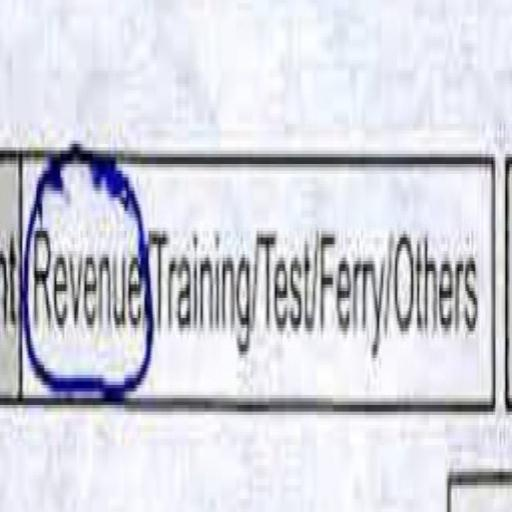check: (20, 107, 146, 450)
